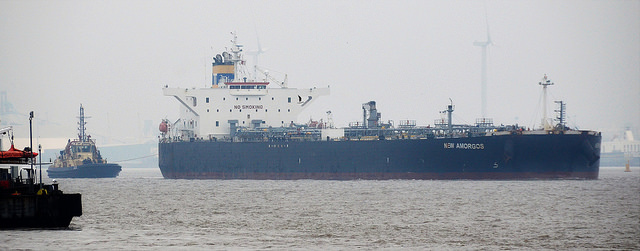tanker: (155, 35, 608, 182)
tug_boat: (45, 97, 125, 179)
